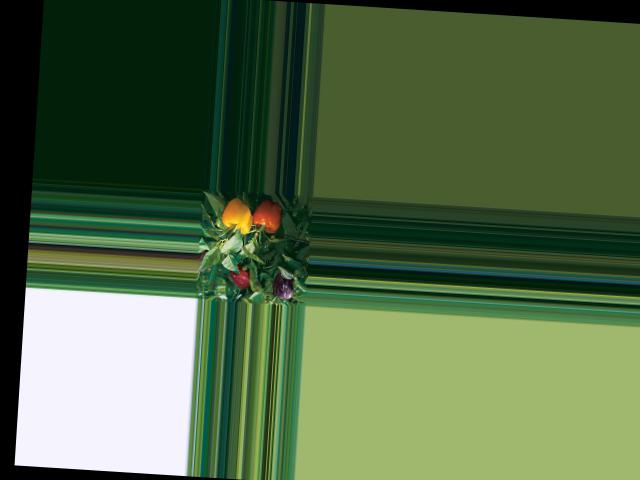bell_pepper: (220, 198, 260, 236)
